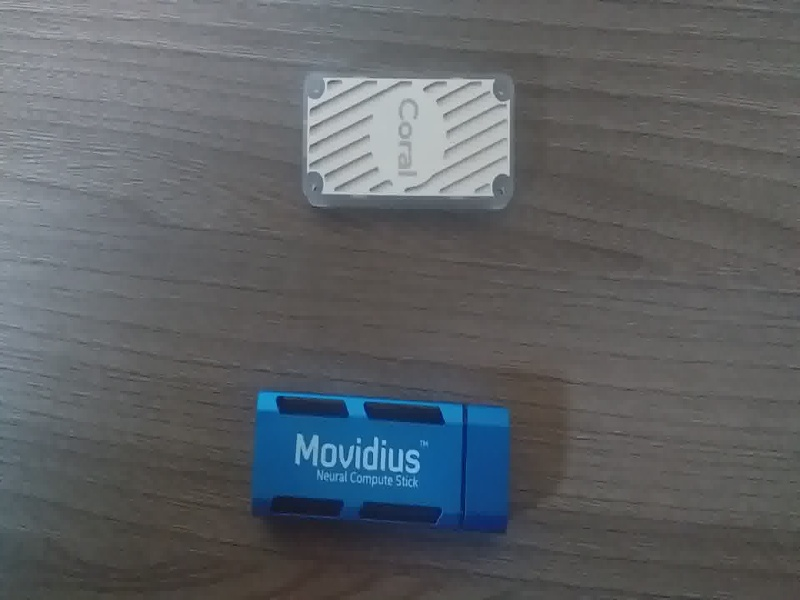coral: (295, 61, 539, 235)
movidius: (237, 373, 520, 558)
